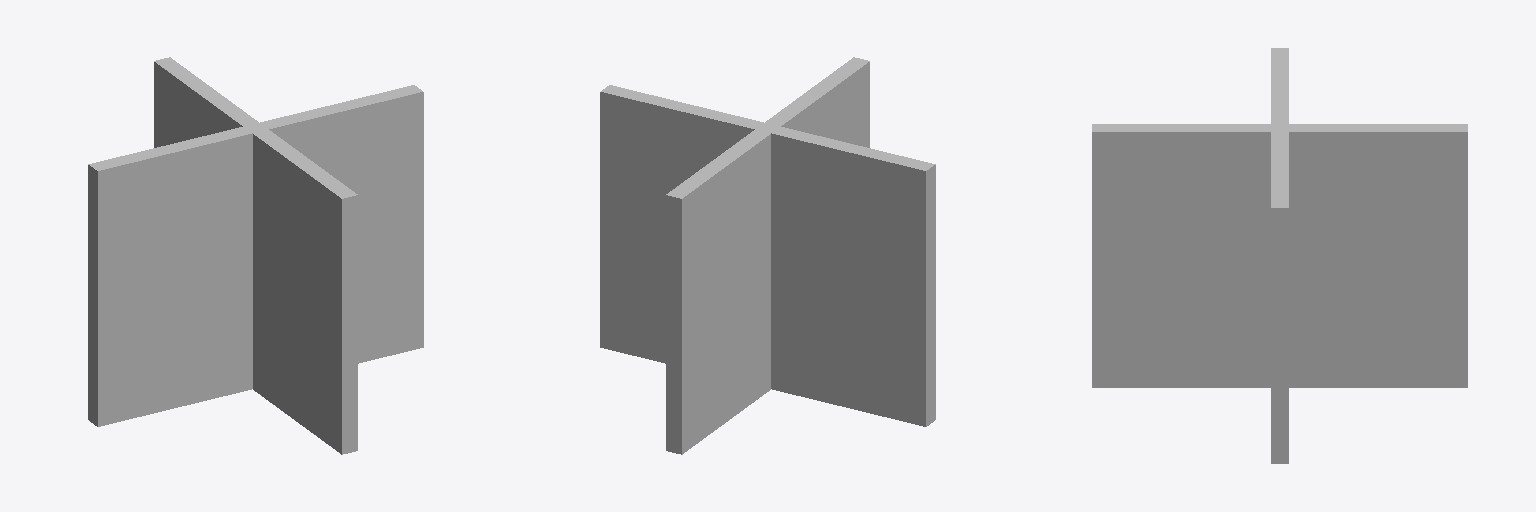
File: wall_cross_junction.obj
3 views of the same model, side by side, from view 1: azimuth 30°, elevation 25°; view 2: azimuth 150°, elevation 25°; view 3: azimuth 270°, elevation 25° (orthographic).
Parts seen in each view (by area): view 1: Wall_Cross_Junction; view 2: Wall_Cross_Junction; view 3: Wall_Cross_Junction.
Boxes of the visible parts, <box> form: Wall_Cross_Junction: <box>88,57,423,454</box>; Wall_Cross_Junction: <box>600,57,935,454</box>; Wall_Cross_Junction: <box>1092,48,1467,463</box>.
Bounding box in the file's own units: 4 × 3 × 4.